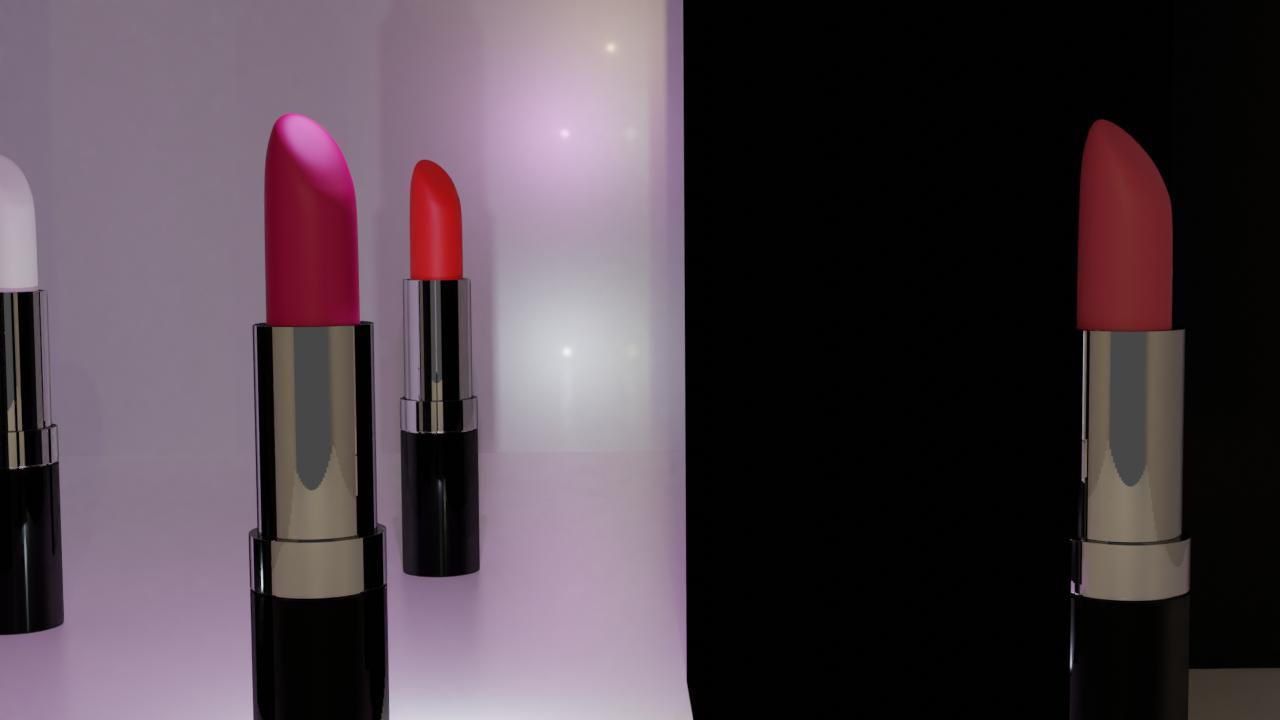CLASSIFIER_NAME: (245, 104, 394, 720), (1046, 110, 1195, 720), (398, 154, 481, 577), (0, 147, 66, 635)
